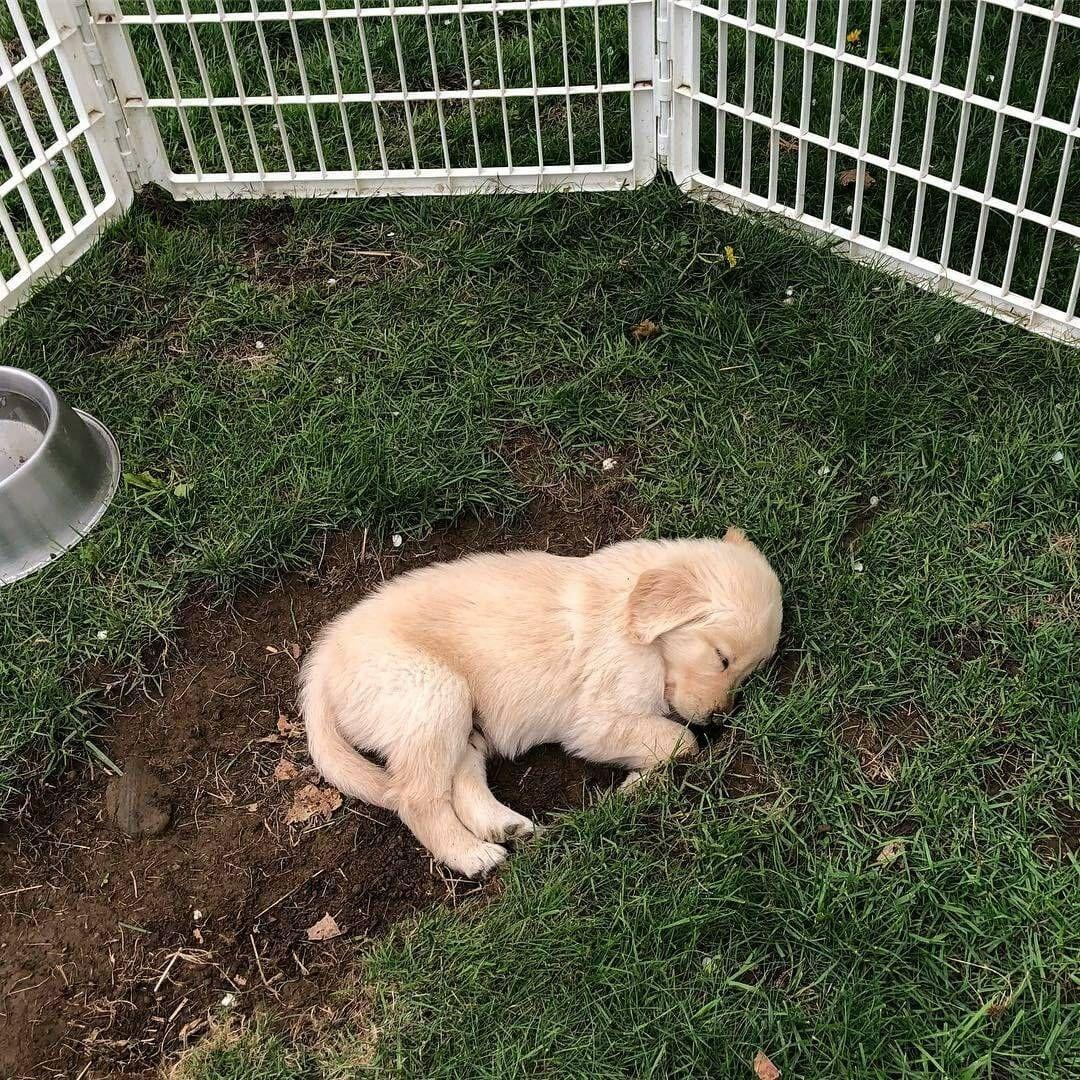puppy-dog: (291, 523, 791, 891)
